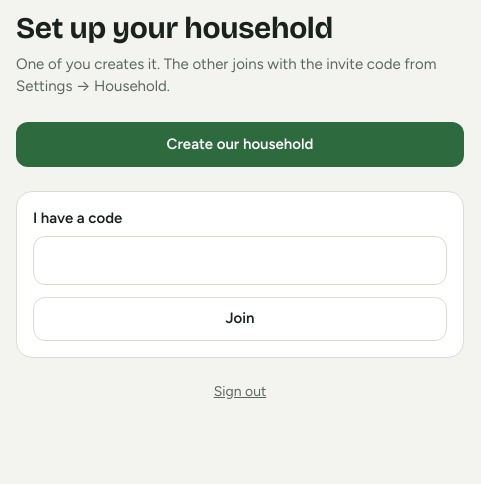
Test: join with bad code shows message
Type "abcd234567" into the field labelled "I have a code" at x=240, y=261, box [33, 236, 447, 285]
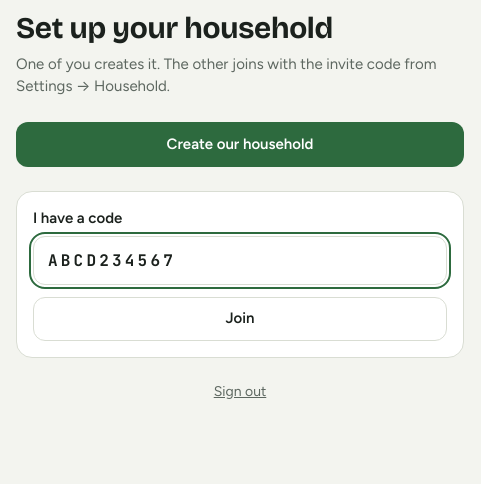
Click the button "Join" at x=240, y=319, box [33, 297, 447, 341]
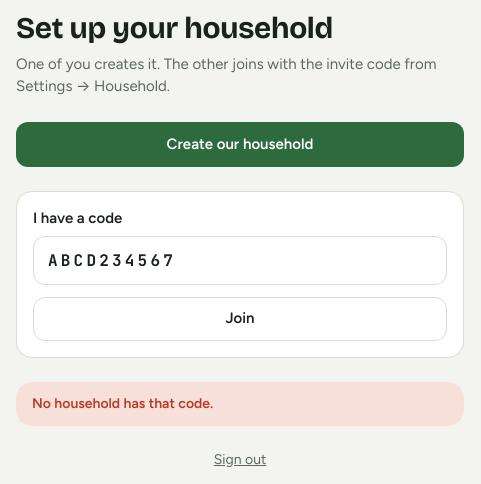
Expected: the message reads "No household has that code.", [32, 395, 213, 412]
